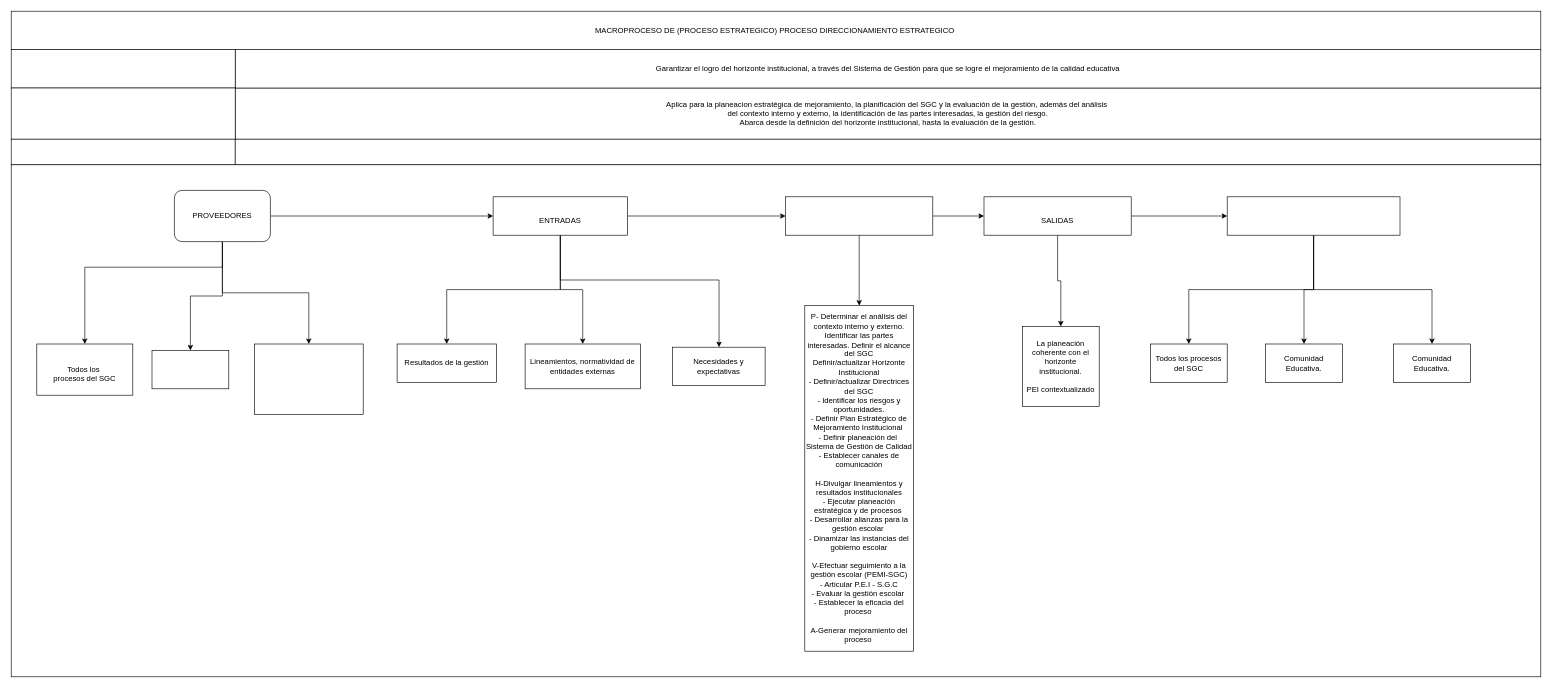
Some shapes in this 1552 by 688 pixel diagram are drawn without their labels. The shapes that lost their labels are listed below. From the top down, each one's centre as x and y in pixels, then its label:
point (123, 68): OBJETIVO
point (123, 113): ALCANCE
point (123, 152): RESPONSABLE
point (888, 152): Rector/a
point (859, 215): PROCEDIMIENTOS
point (1313, 215): USUARIOS
point (190, 369): Entes de control
point (308, 378): Comunidad Educativa y demás partes interesadas.
